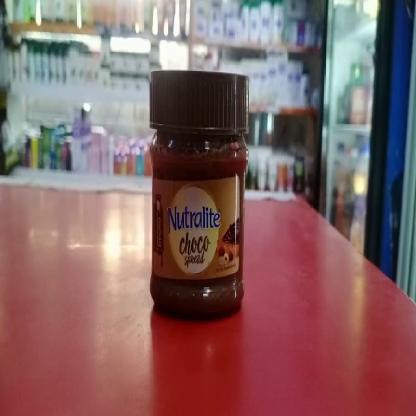Nutralite CHOCO SPREAD CALCIUM 275g: (152, 70, 248, 318)
